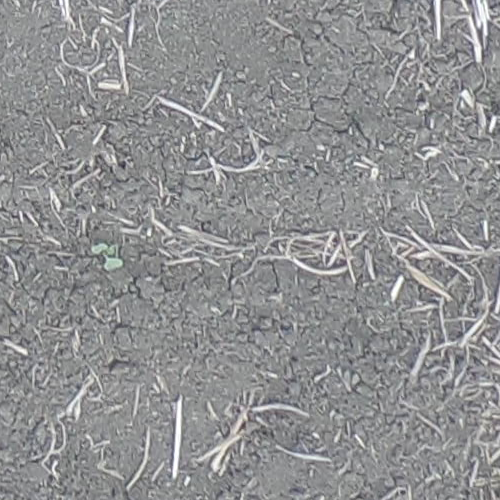plant: (92, 242, 124, 271)
